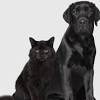cat: (25, 34, 57, 66)
dog: (60, 1, 100, 36)
